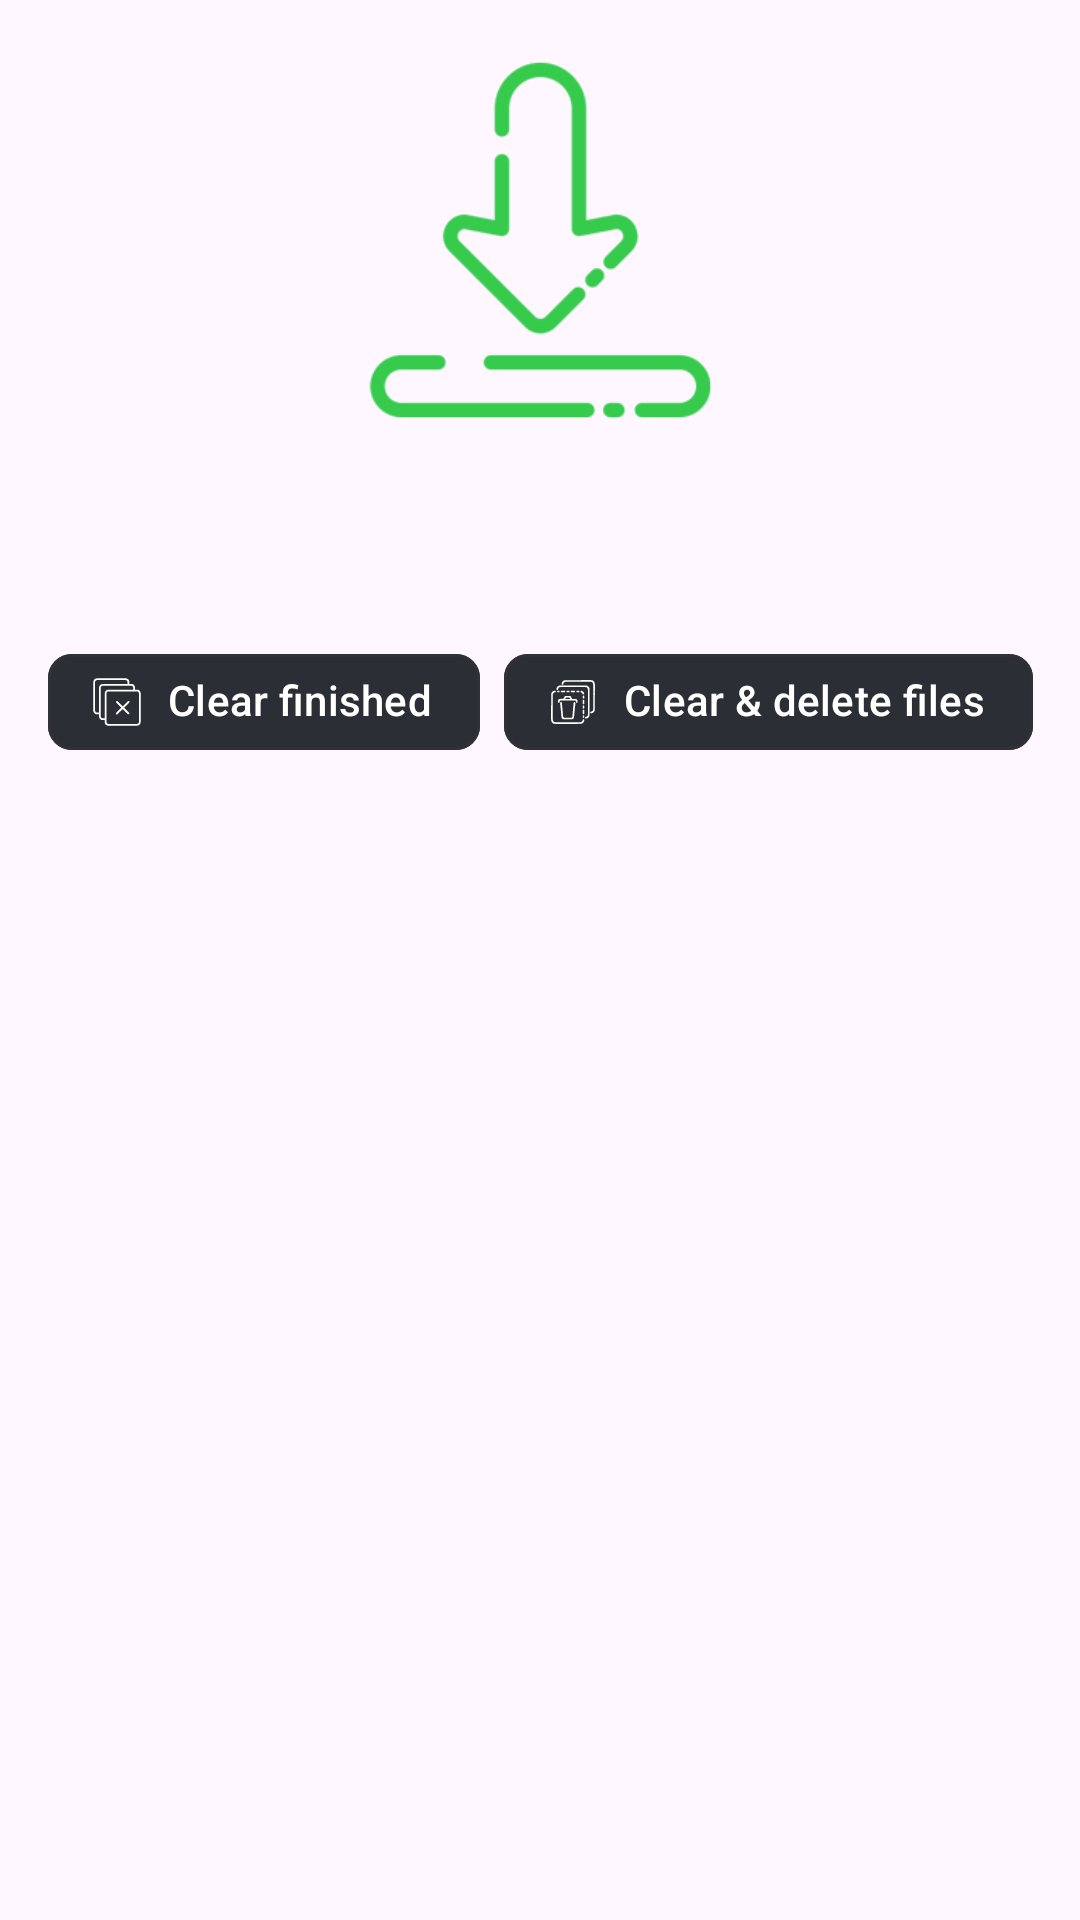

Icon click points for this 1080 x 1920 phone screenshot, format point (x, y):
Downloaded Icon: point (540, 240)
